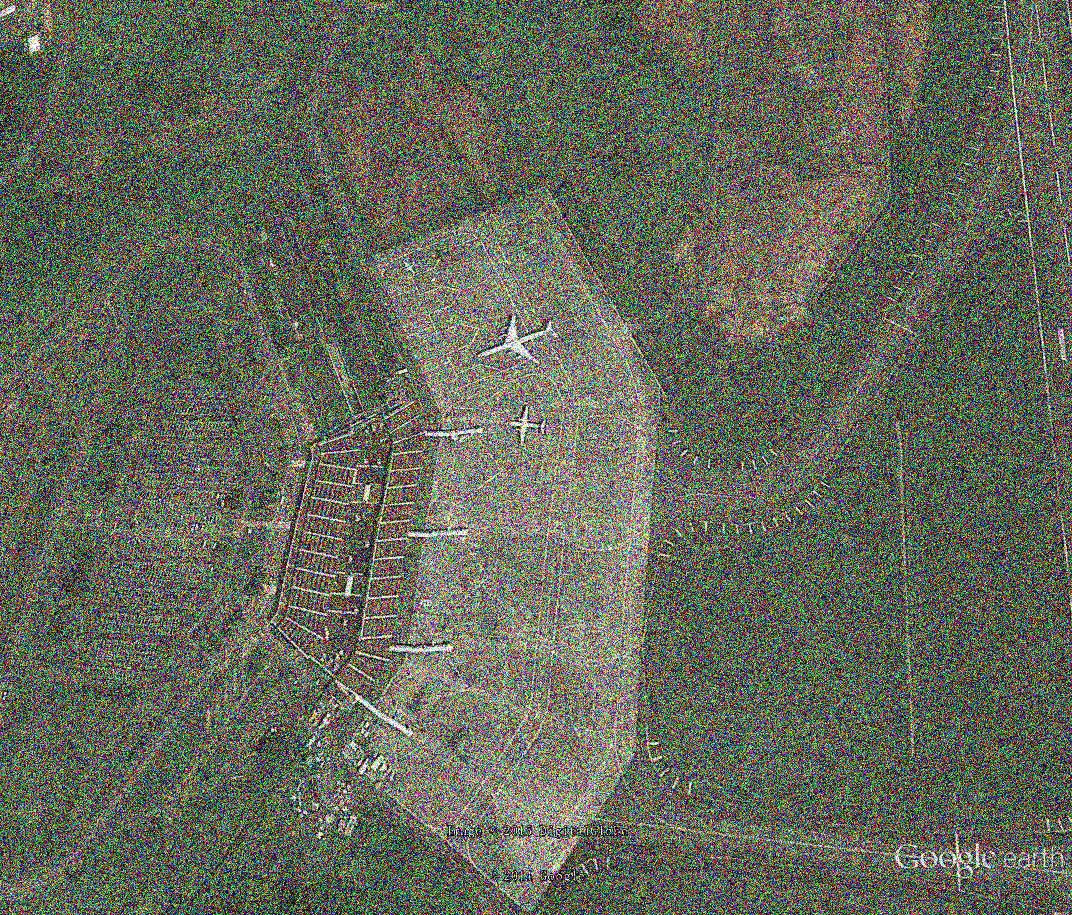aircraft: (476, 309, 561, 369), (506, 403, 552, 447)
